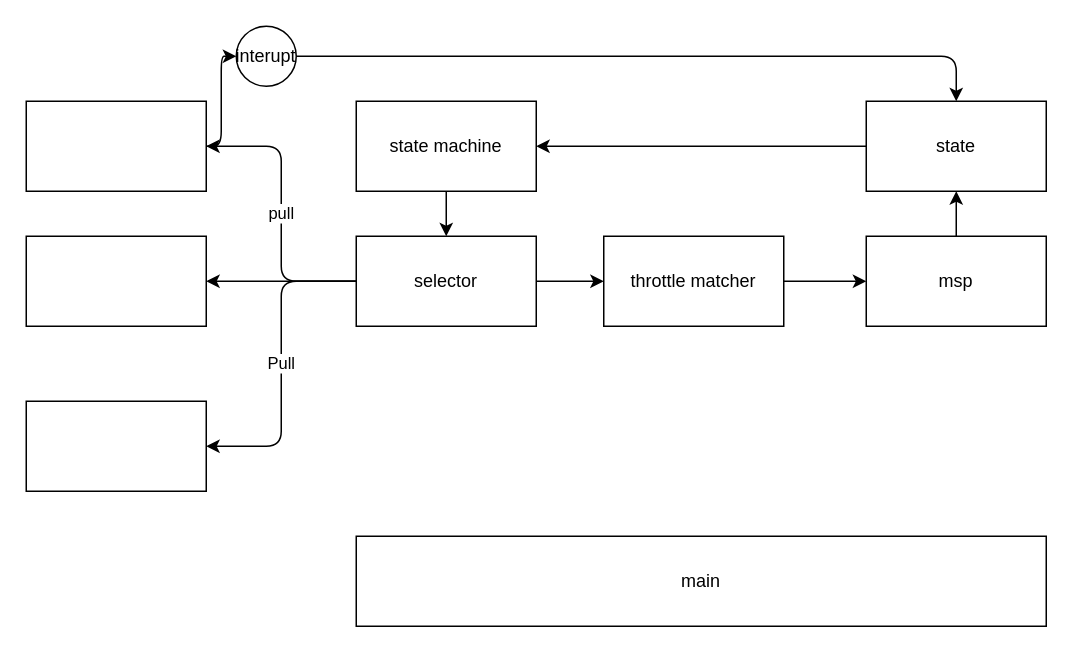
Image size: 1073x653. Some labels were removed from this diagram. Each missing label, with the centre of its shape:
"joy adapter" belongs at pixel 115 145.
"takeoff" belongs at pixel 115 280.
"tracker controller" belongs at pixel 115 445.
